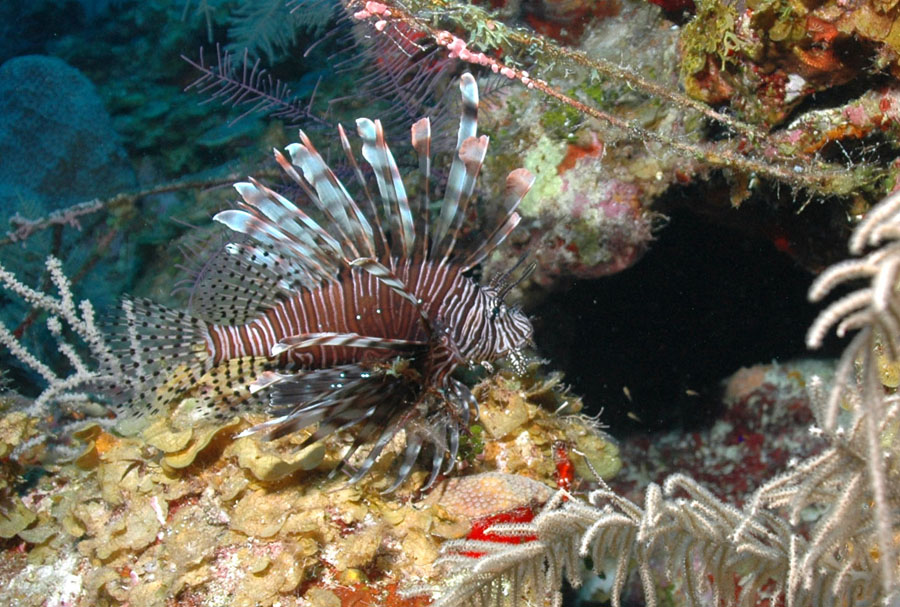Pterois_volitans: (148, 124, 539, 480)
